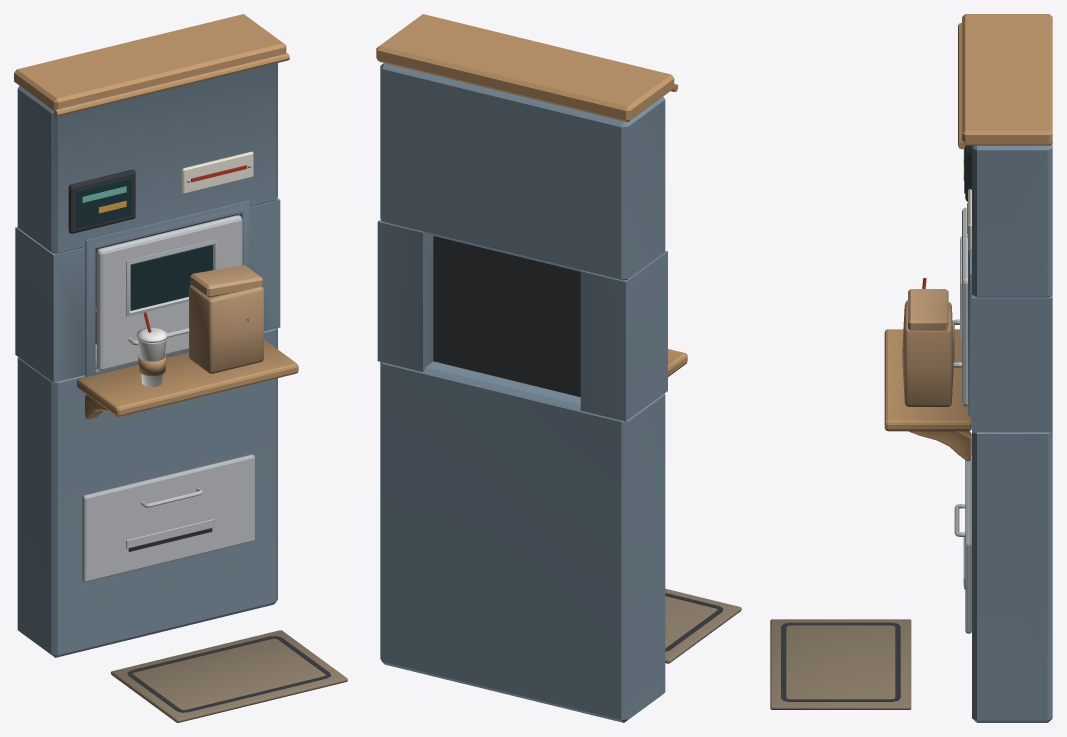
The model's file is deliveryHatch.glb.
3 views of the same model, side by side, from view 1: azimuth 30°, elevation 25°; view 2: azimuth 150°, elevation 25°; view 3: azimuth 270°, elevation 25° (orthographic). The views are drawn at different scales.
Parts seen in each view (by area): view 1: body, hatch; view 2: body; view 3: body, hatch.
Part boxes in pixels (x1,y1,x2,y2): body: (14,14,347,722); hatch: (96,215,242,370); body: (376,14,741,722); body: (770,14,1052,722); hatch: (952,207,967,406).
Bounding box in the file's own units: 0.84 × 1.95 × 0.84.
